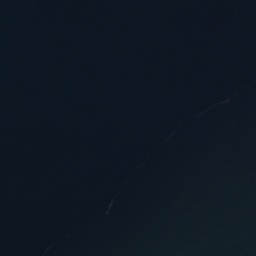Marine Debris: (105, 88, 241, 215)
